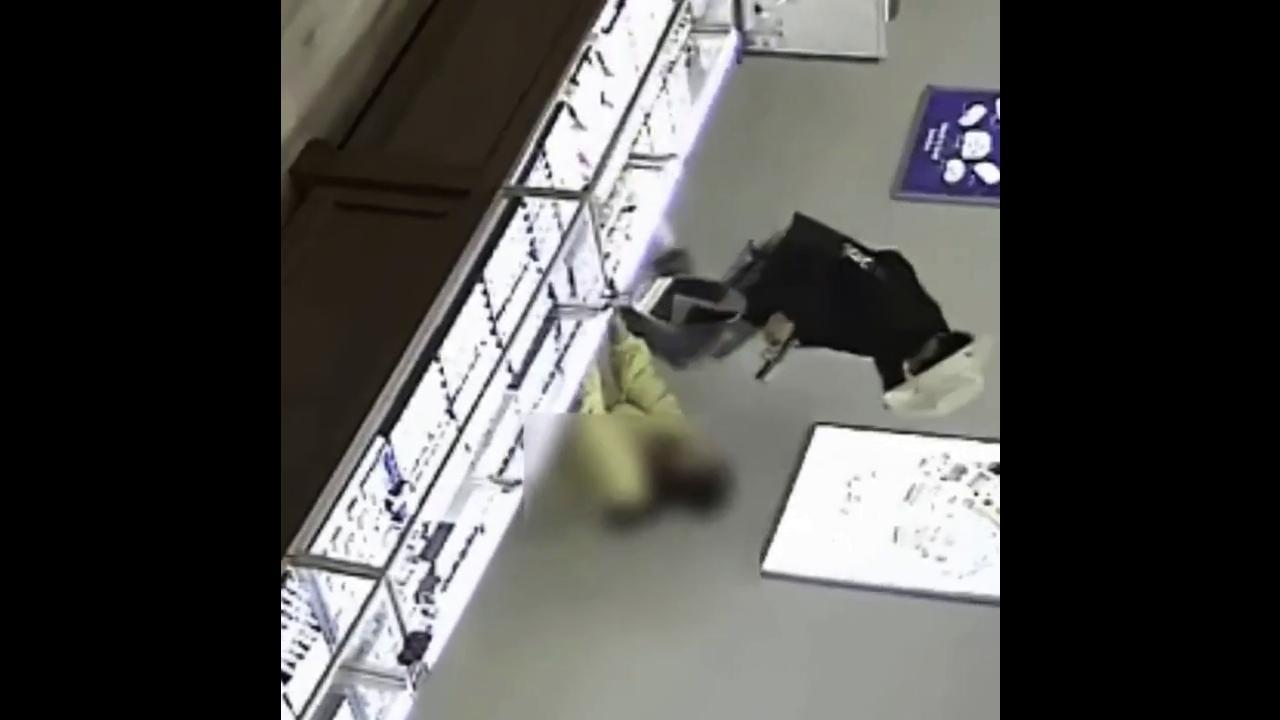melee: (746, 288, 820, 380)
